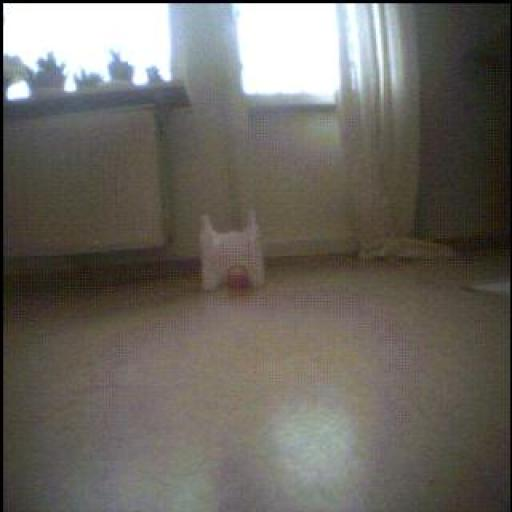Basket: (222, 263, 249, 293)
